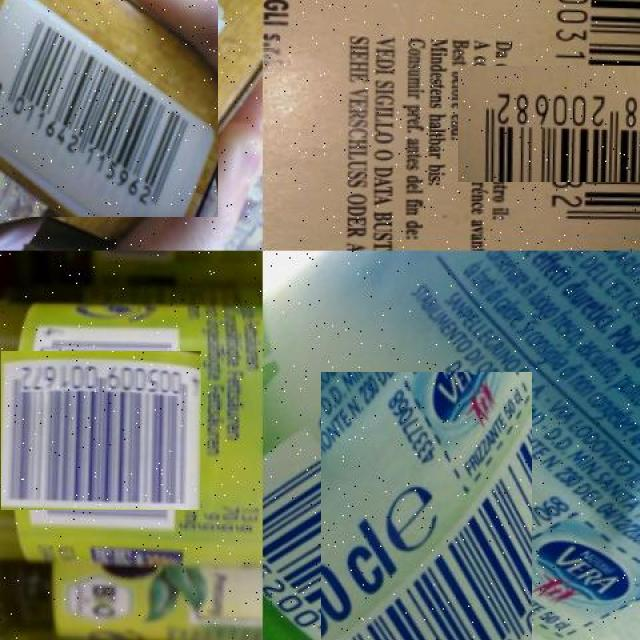Barcode: (292, 401, 561, 640), (0, 0, 218, 218), (7, 339, 190, 521), (491, 33, 640, 215)
